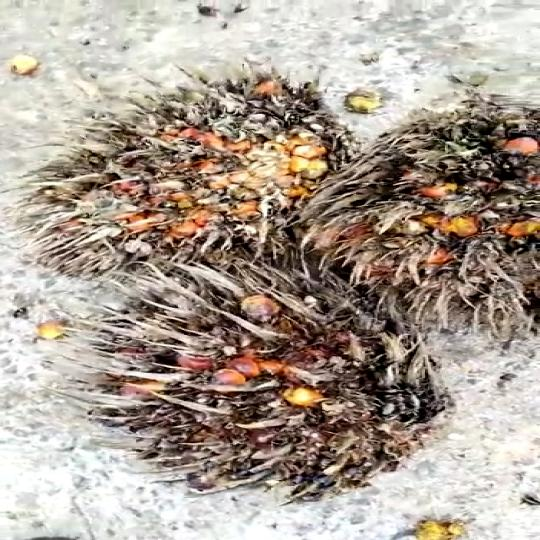terlalu masak: (69, 254, 447, 505), (4, 72, 364, 275), (314, 110, 540, 337)
